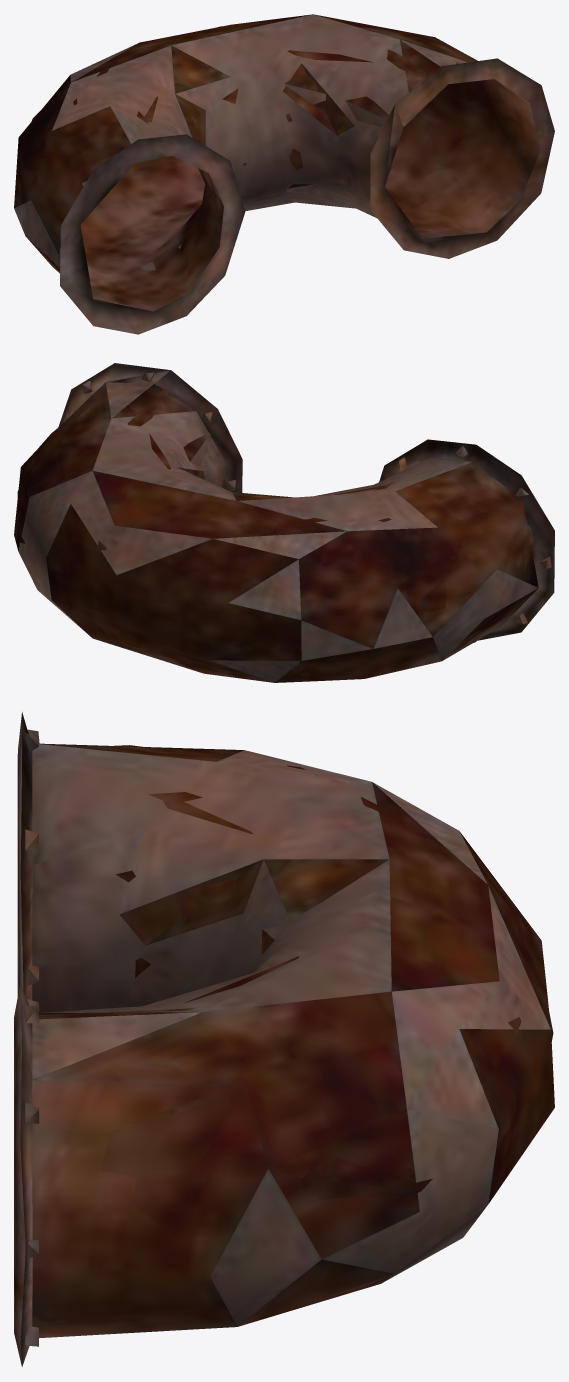
The model's file is rusty_pipe_25.glb.
3 views of the same model, one above another, from view 1: azimuth 30°, elevation 25°; view 2: azimuth 150°, elevation 25°; view 3: azimuth 270°, elevation 25° (orthographic). The views are drawn at different scales.
Parts seen in each view (by area): view 1: rusty_pipe_25; view 2: rusty_pipe_25; view 3: rusty_pipe_25.
Boxes of the visible parts, <box> form: rusty_pipe_25: <box>14,14,554,334</box>; rusty_pipe_25: <box>14,363,554,682</box>; rusty_pipe_25: <box>14,712,554,1366</box>.
Size of what is drawn, in the model's own units: 0.0762 by 0.0287 by 0.0402.
1 material, 1 textured.
